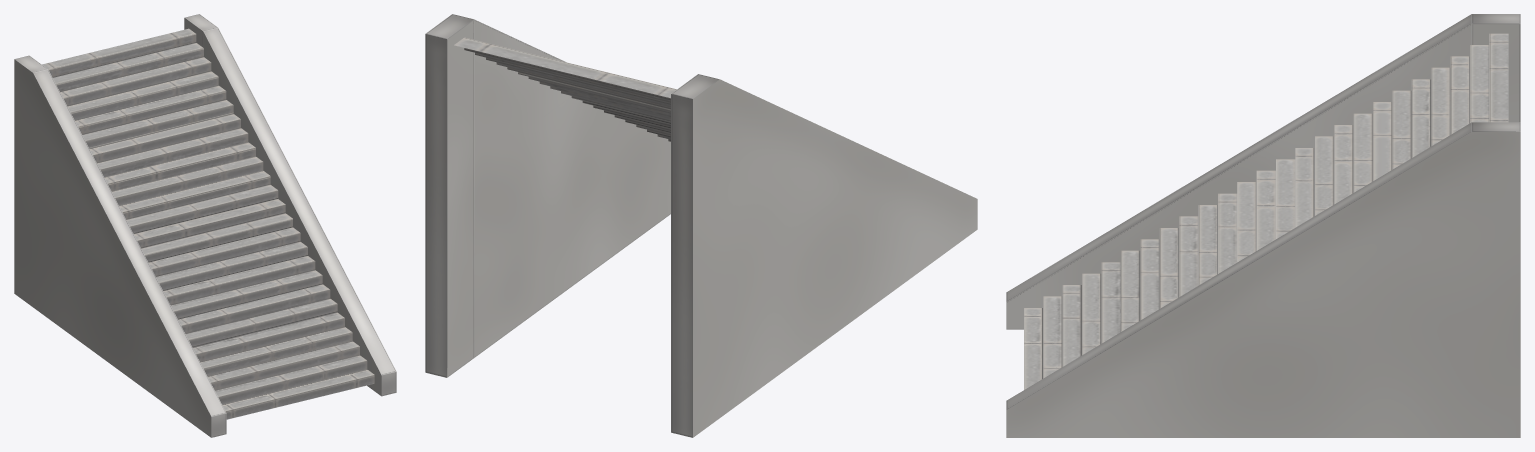
The model's file is SM_Stairs.fbx.
3 renders of one model, left to right at view 1: azimuth 30°, elevation 25°; view 2: azimuth 150°, elevation 25°; view 3: azimuth 270°, elevation 25°, orthographic. The views are drawn at different scales.
Parts seen in each view (by area): view 1: BgMD_Stairs_01; view 2: BgMD_Stairs_01; view 3: BgMD_Stairs_01.
Boxes of the visible parts, left/top/right/bottom form: BgMD_Stairs_01: left=14, top=14, right=396, bottom=437; BgMD_Stairs_01: left=425, top=14, right=977, bottom=437; BgMD_Stairs_01: left=1006, top=14, right=1520, bottom=437.
Size of the model in its own units: 432 by 522 by 796.
